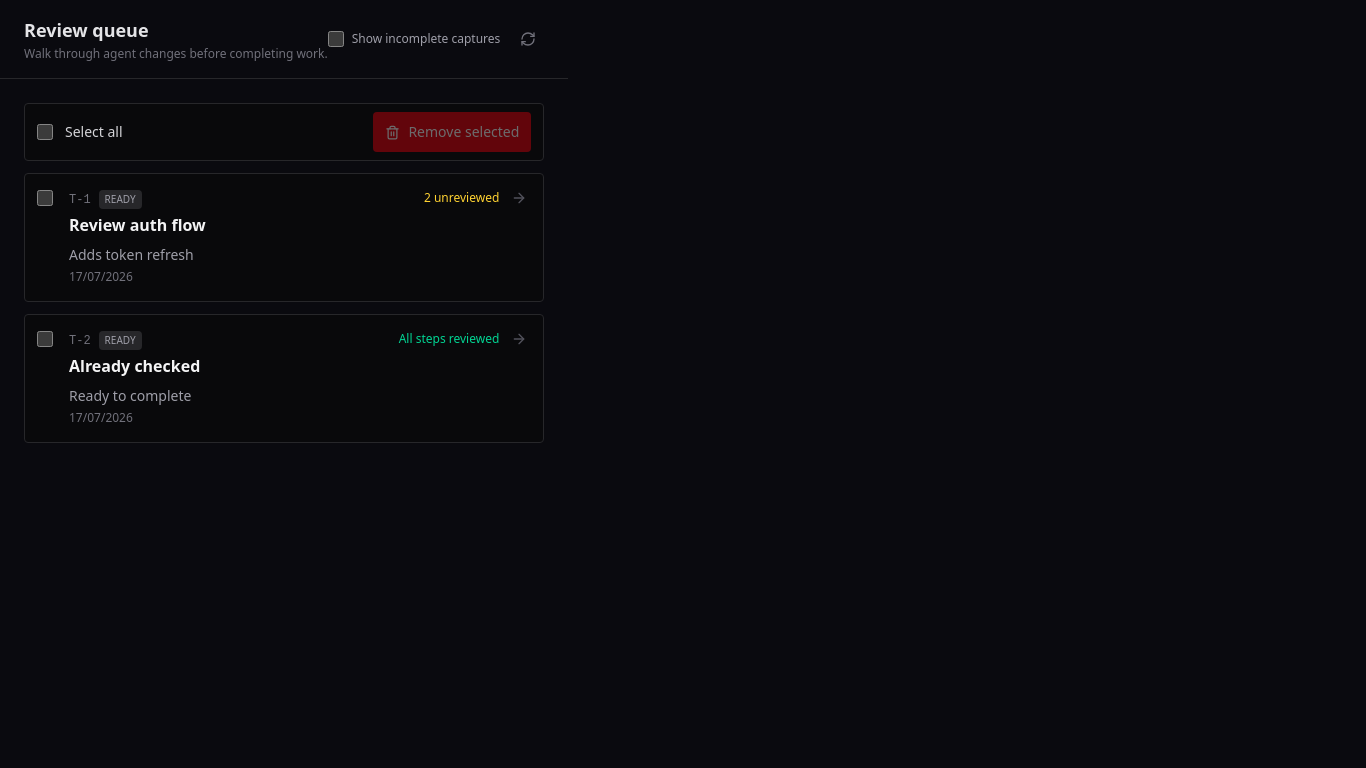
Scenario: ReviewQueuePage › keeps the selection and surfaces an error when removal fails
The width and height of the screenshot is (1366, 768).
Click the checkbox named "Select Review auth flow". click: (45, 198)
box: [37,190,53,206]
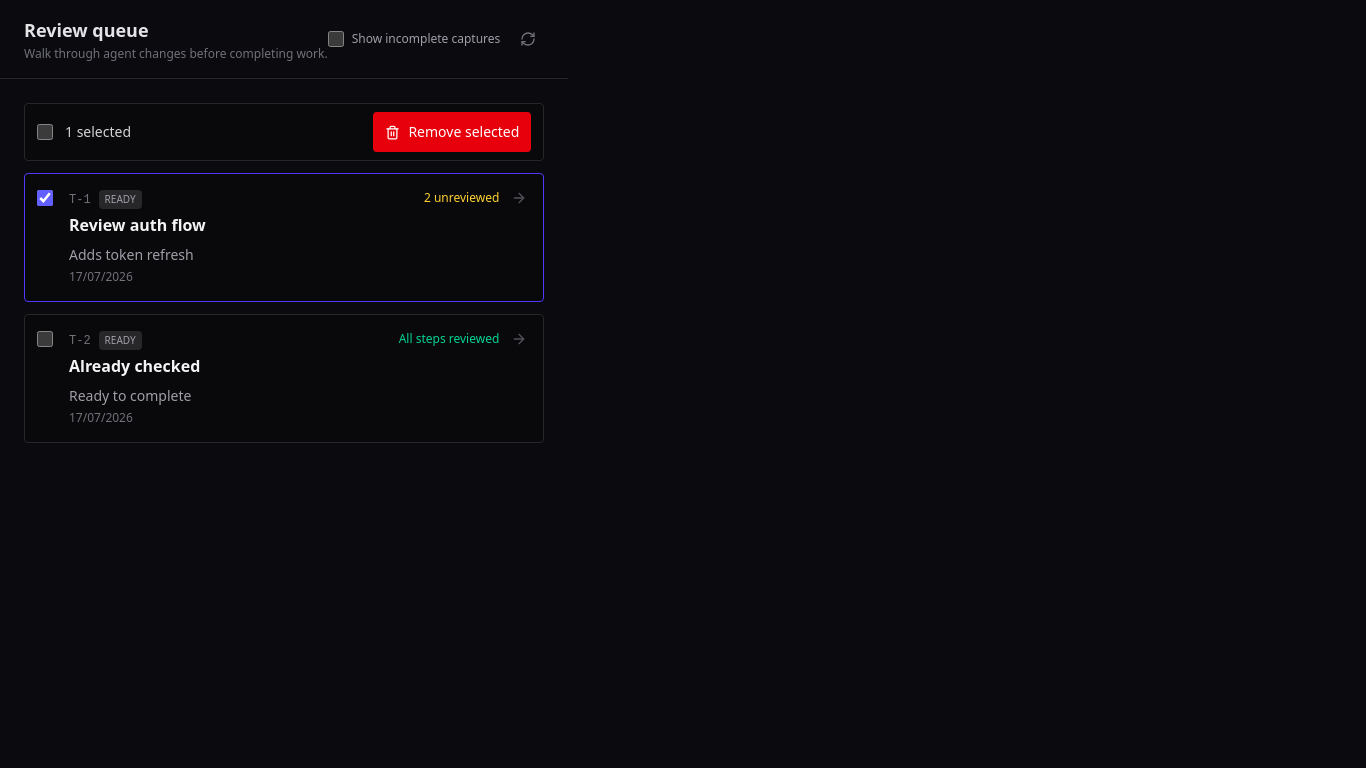
Click the button "Remove selected". click: (452, 132)
box: [373,112,531,152]
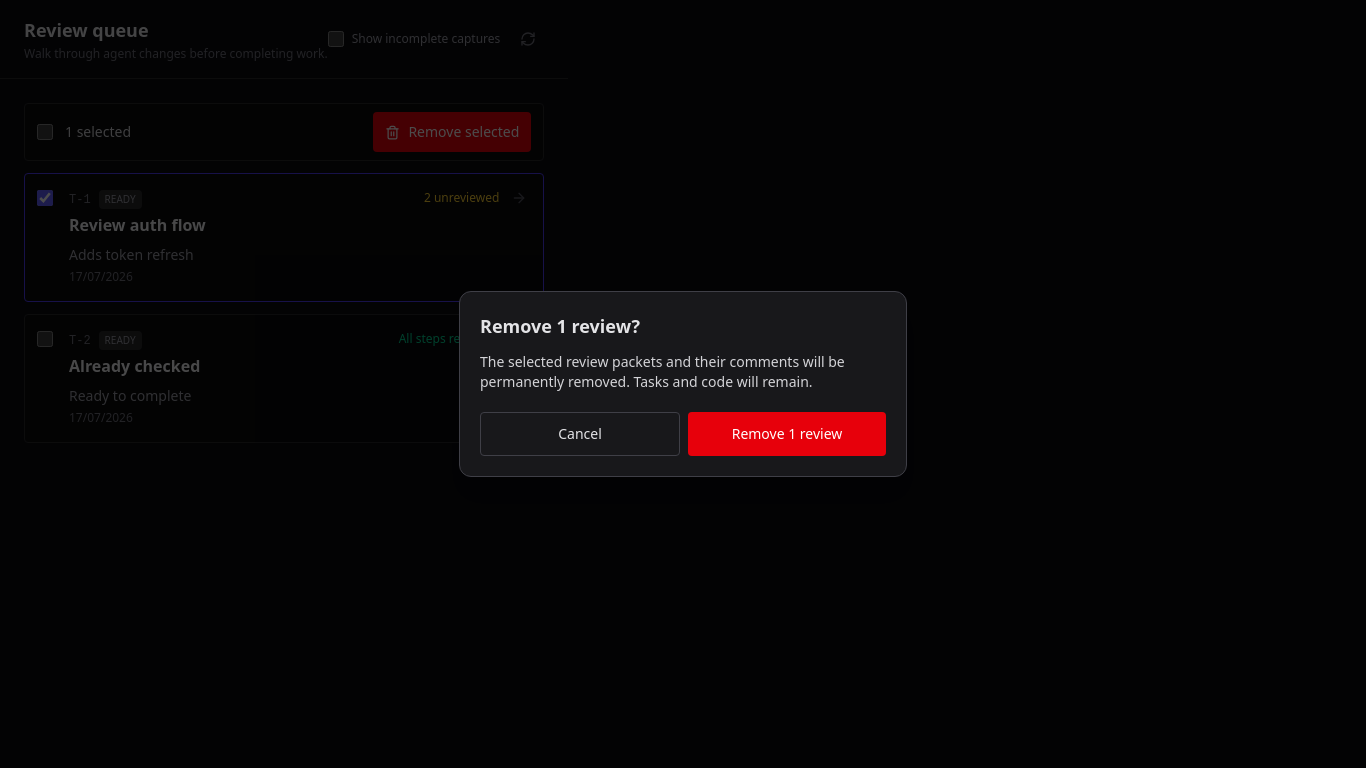
Click the button "Remove 1 review". click: (787, 434)
box: [688,412,886,456]
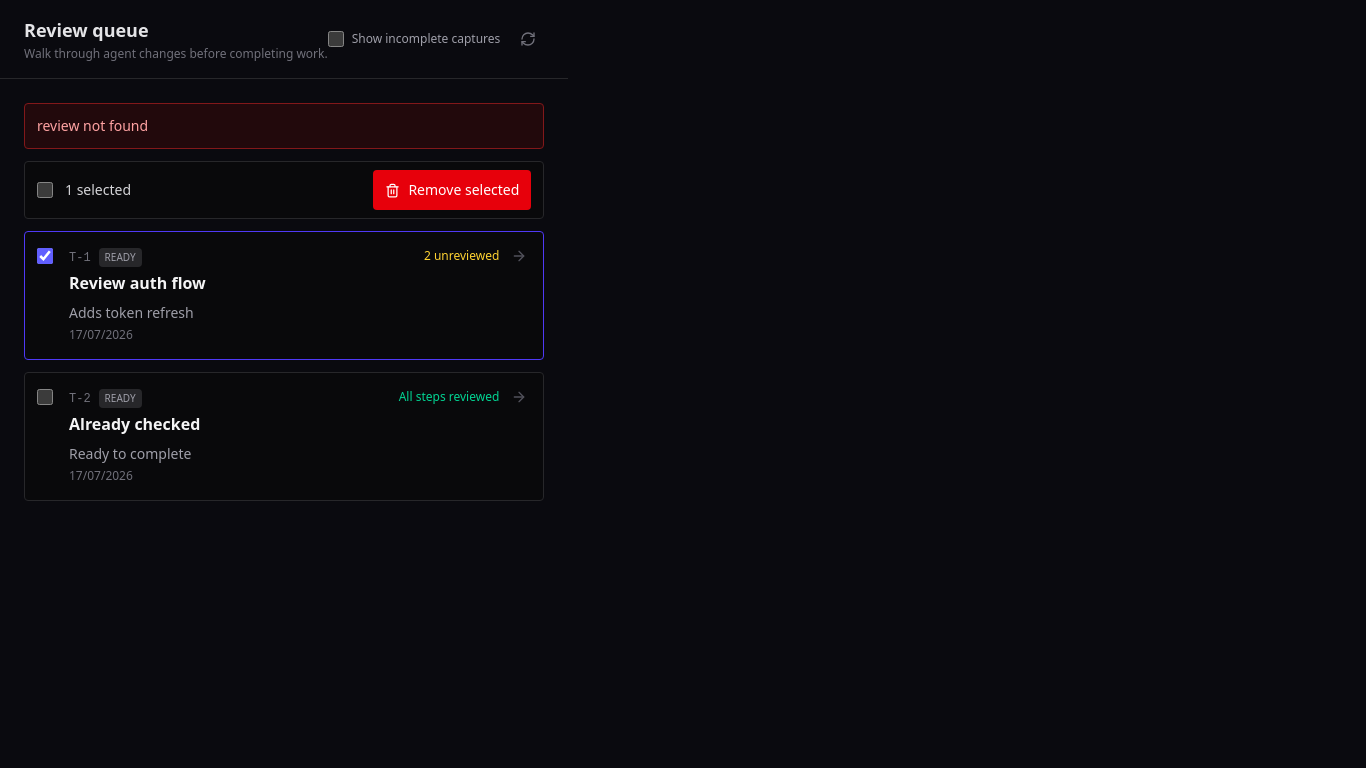
Expected: the checkbox named "Select Review auth flow" is checked, [37,248,53,264]
Expected: the message reads "review not found", [37,116,148,135]
